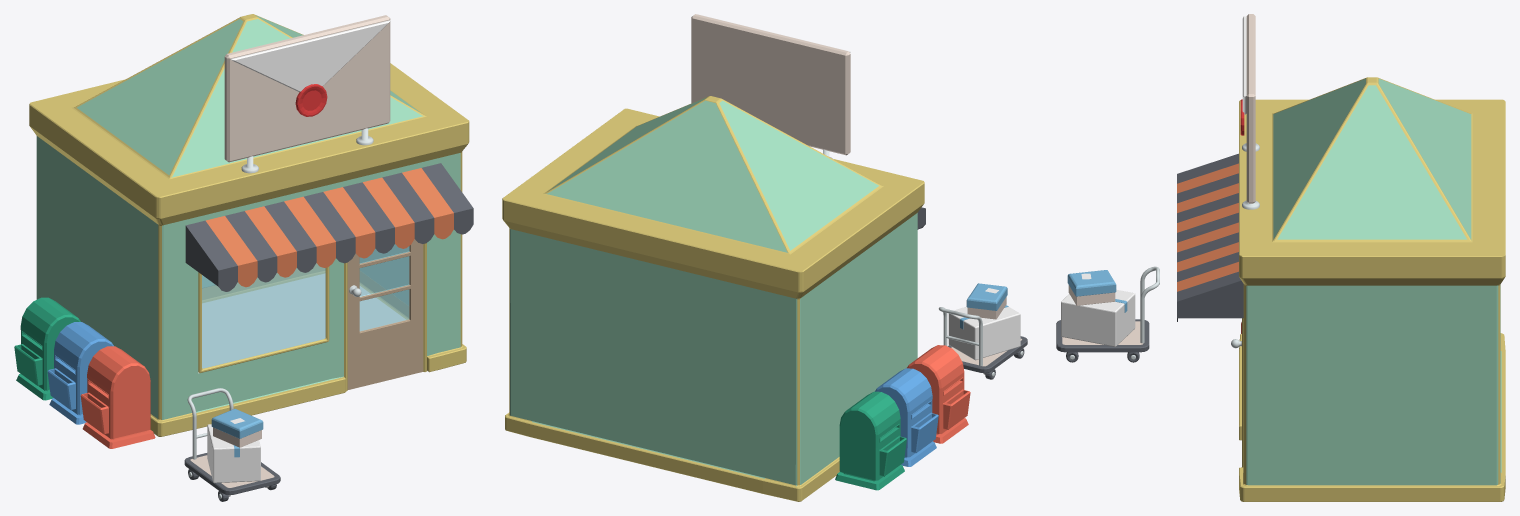
The model's file is post_office.glb.
3 renders of one model, left to right at view 1: azimuth 30°, elevation 25°; view 2: azimuth 150°, elevation 25°; view 3: azimuth 270°, elevation 25°, orthographic. The views are drawn at different scales.
Visible parts, largest first — view 1: main.003_21, rain_22, window_10, Cube.017_17, mail box_23, Cube.018_18, mail box.001_24, mail box.002_25, doors frame_9, boxes_4, cart_0, boxes.002_6 (+2 smaller); view 2: main.003_21, Cube.017_17, mail box.002_25, mail box_23, mail box.001_24, boxes_4, boxes.002_6, cart_0, cart.002_3; view 3: main.003_21, rain_22, boxes_4, Cube.017_17, cart_0, boxes.002_6, cart.002_3.
Part boxes in pixels (x1,y1,x2,y2): main.003_21: (29, 14, 469, 436); rain_22: (185, 163, 473, 291); window_10: (202, 239, 423, 389); Cube.017_17: (224, 15, 390, 162); mail box_23: (80, 346, 155, 448); Cube.018_18: (230, 20, 390, 92); mail box.001_24: (47, 322, 113, 424); mail box.002_25: (14, 297, 80, 400); doors frame_9: (198, 243, 426, 391); boxes_4: (207, 424, 260, 482); cart_0: (184, 453, 280, 495); boxes.002_6: (211, 408, 263, 438); main.003_21: (502, 96, 924, 501); Cube.017_17: (691, 14, 850, 155); mail box.002_25: (835, 391, 906, 490); mail box_23: (907, 345, 970, 443); mail box.001_24: (875, 368, 938, 466); boxes_4: (948, 305, 1020, 360); boxes.002_6: (966, 283, 1007, 310); cart_0: (948, 336, 1027, 373); cart.002_3: (938, 307, 982, 365); main.003_21: (1239, 77, 1505, 501); rain_22: (1177, 153, 1243, 321); boxes_4: (1061, 289, 1135, 346); Cube.017_17: (1246, 14, 1255, 203); cart_0: (1056, 319, 1149, 352); boxes.002_6: (1067, 270, 1116, 296); cart.002_3: (1140, 266, 1159, 343).
Size of the model in its own units: 3.64 by 3.44 by 3.78.
